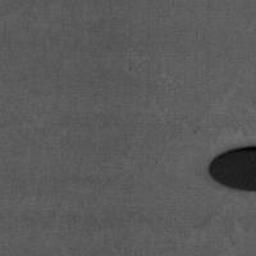Punching: (209, 146, 256, 192)
